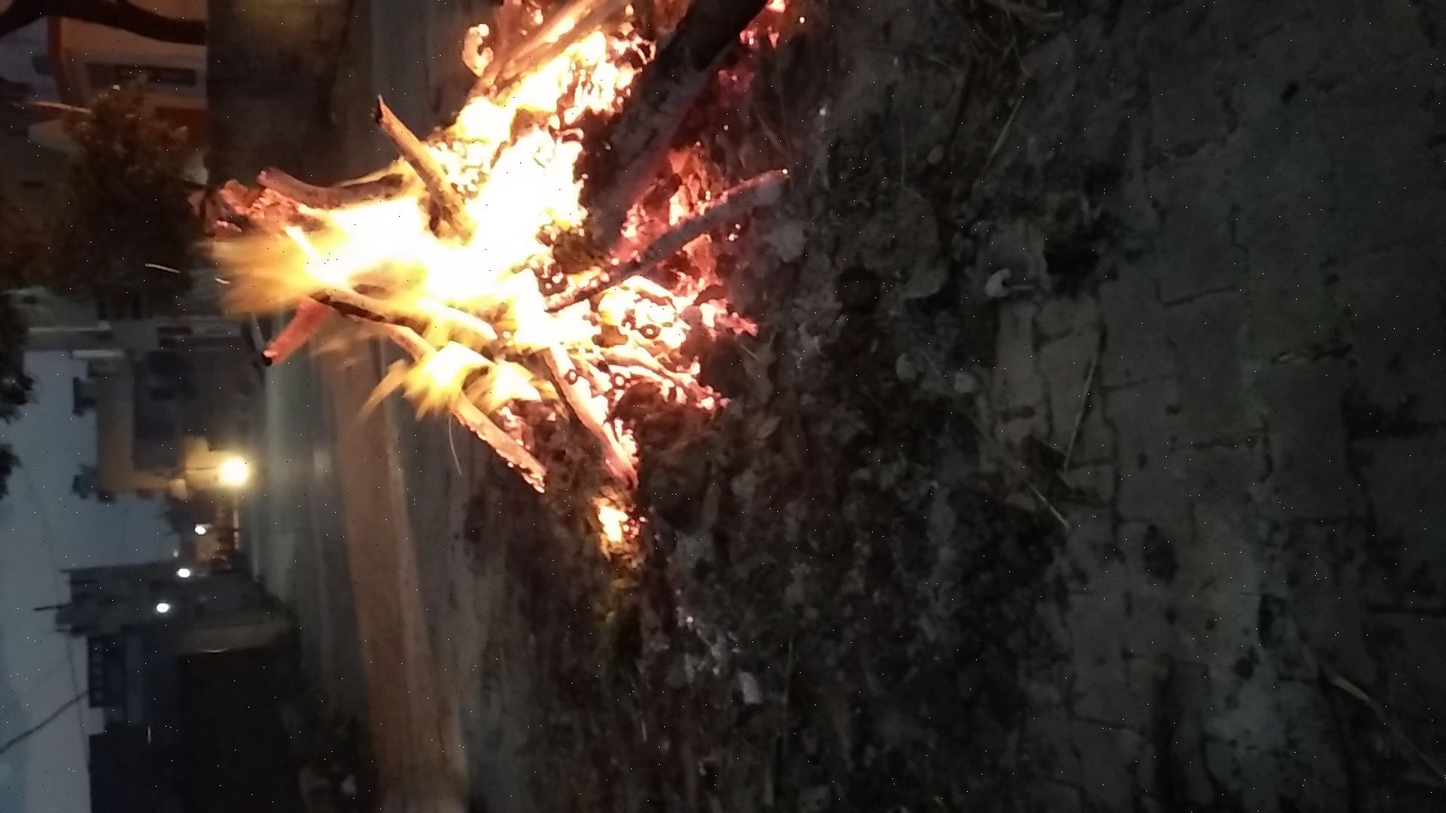fire: (597, 74, 1439, 426)
